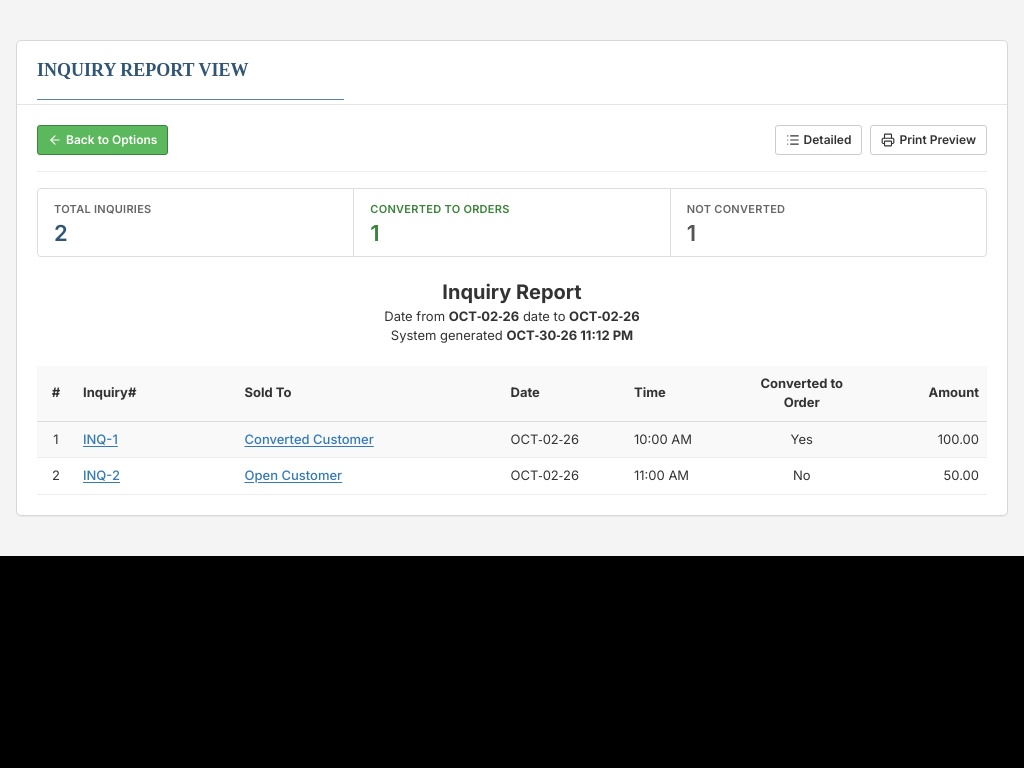
Scenario: InquiryReportView › keeps the conversion column aligned with expanded detail rows
Expected: the column heading "Converted to Order" is shown, top-left (740, 366), bottom-right (864, 421)
Click the button "Detailed" at (818, 140), box top-left (775, 125), bottom-right (862, 155)
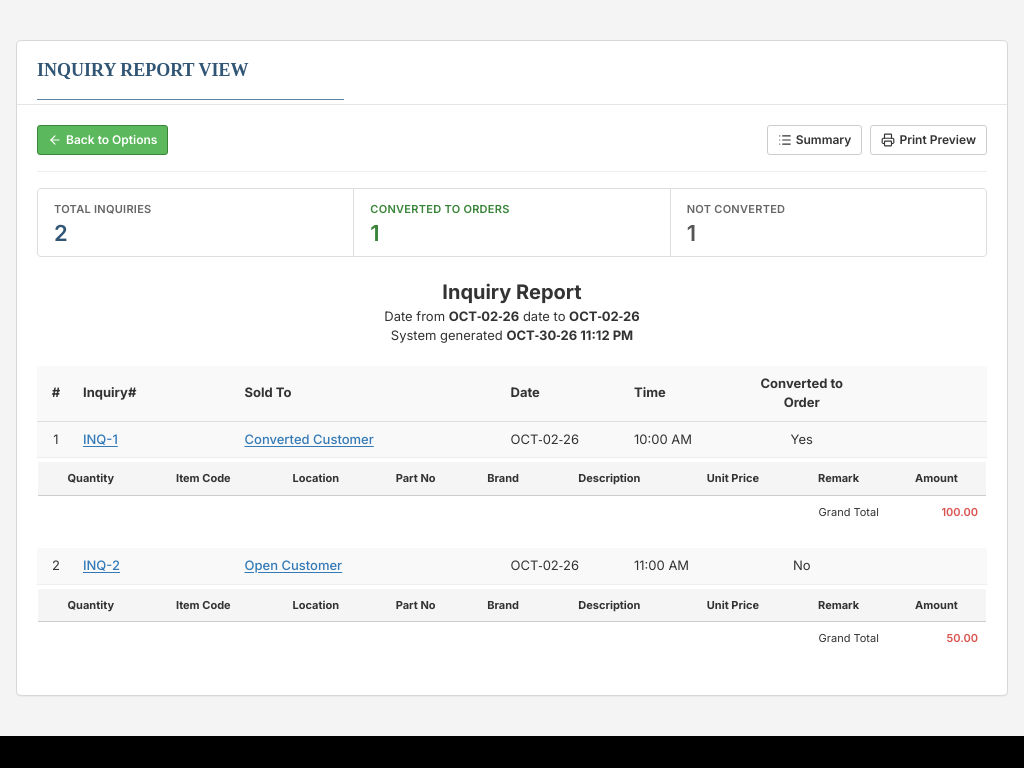
Now the cell that starts with "Quantity" is shown, box top-left (37, 458), bottom-right (987, 548)
